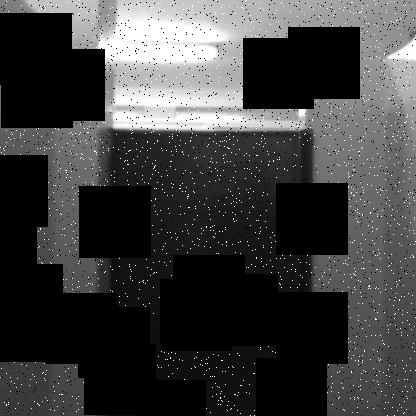Porte: (104, 130, 314, 415)
